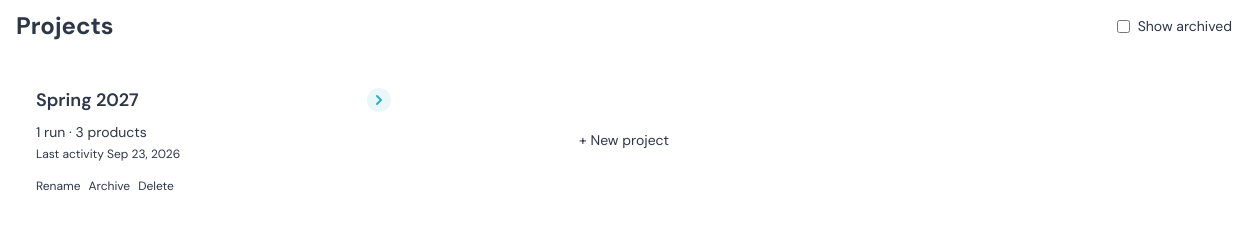
ProjectsGrid › shows an Archive failure as a page-level alert (a-G4: the UI shows error.message)
Step 1. Click the button with aria-label "Archive Spring 2027" → (109, 186), box [88, 178, 130, 194]
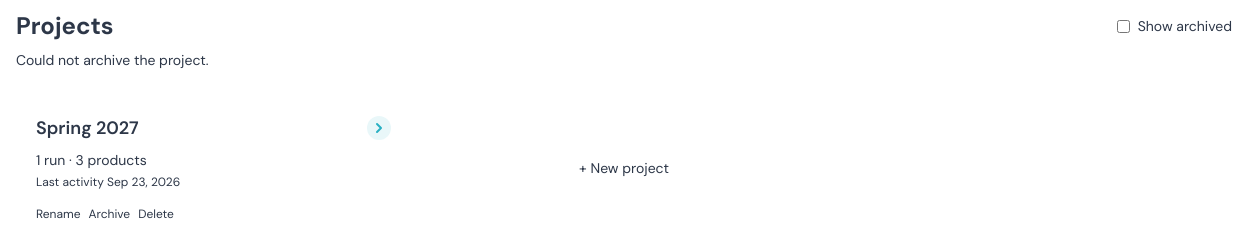
Check: the message reads "Could not archive the project.", box [16, 51, 208, 69]
